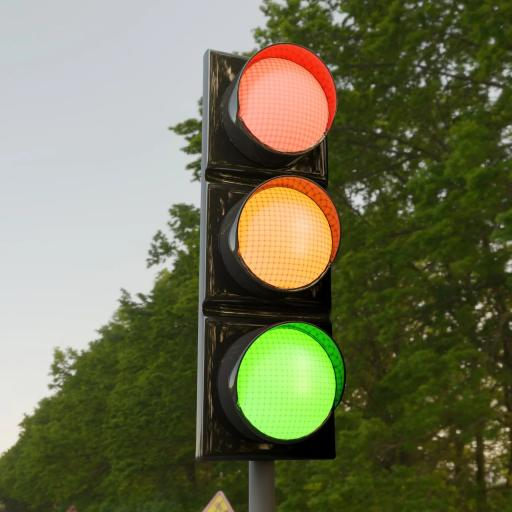traffic light: (195, 42, 345, 462)
